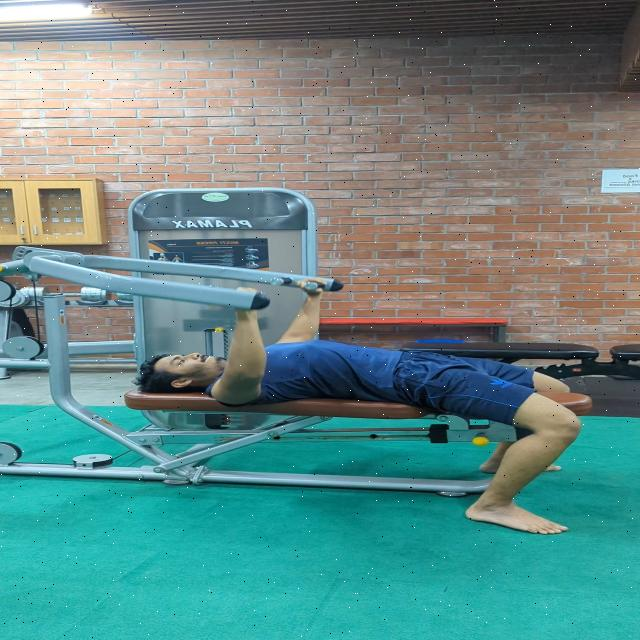Normal_BrenchPress: (95, 264, 579, 558)
